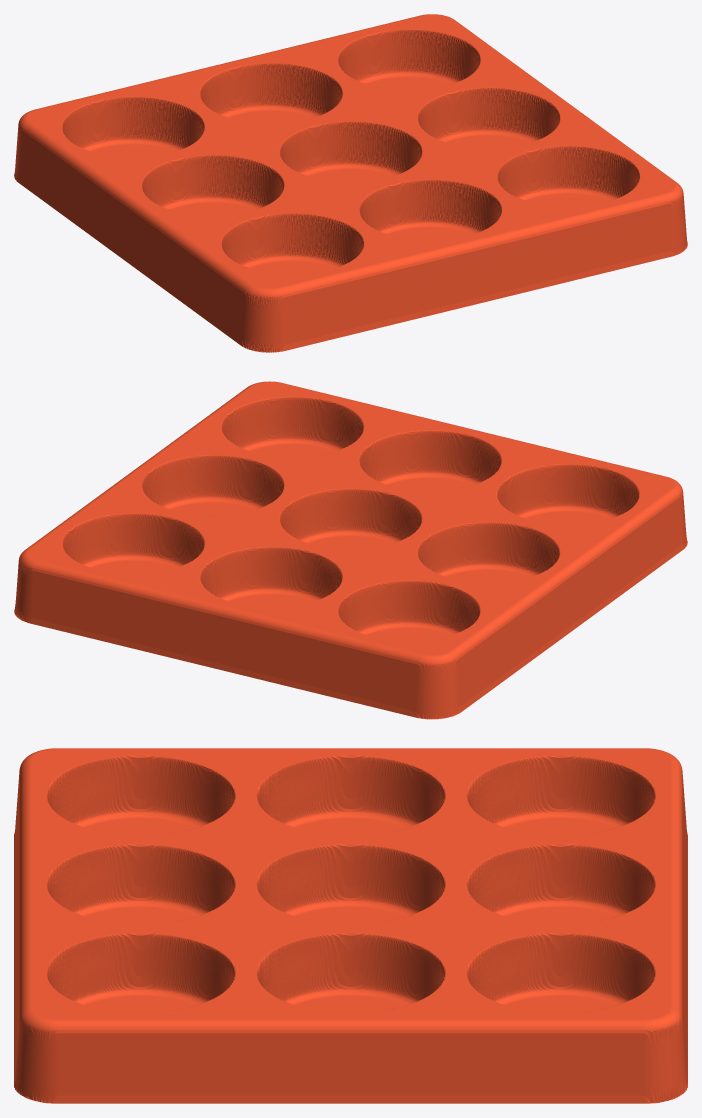
Rendered from mold.glb.
The picture shows the model from 3 angles, top to bottom: view 1: azimuth 30°, elevation 25°; view 2: azimuth 150°, elevation 25°; view 3: azimuth 270°, elevation 25°; orthographic projection. The views are drawn at different scales.
Visible parts, largest first — view 1: geometry_0; view 2: geometry_0; view 3: geometry_0.
Part boxes in pixels (left/top/right/bottom): geometry_0: left=14, top=14, right=687, bottom=352; geometry_0: left=14, top=381, right=687, bottom=719; geometry_0: left=14, top=748, right=687, bottom=1103.
Size of the model in its own units: 0.1387 by 0.0175 by 0.1387.
